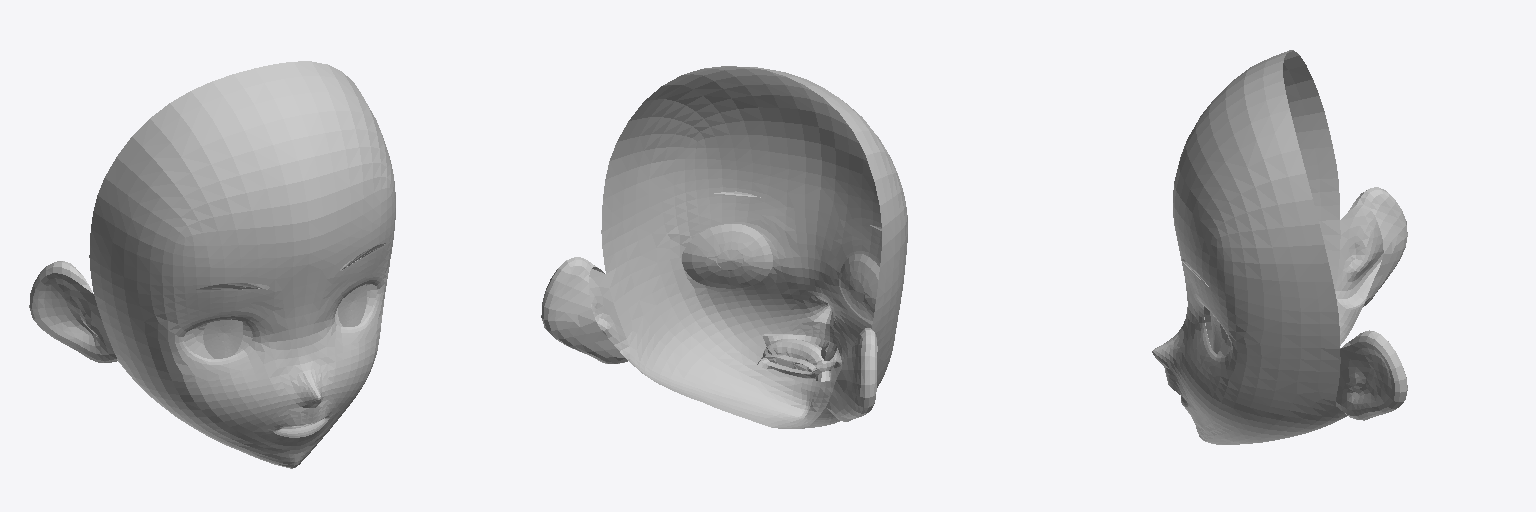
Rendered from mouthShrugUpper.obj.
3 views of the same model, side by side, from view 1: azimuth 30°, elevation 25°; view 2: azimuth 150°, elevation 25°; view 3: azimuth 270°, elevation 25° (orthographic).
Visible parts, largest first — view 1: Face; view 2: Face; view 3: Face.
Boxes of the visible parts, x1=… form: Face: x1=29, y1=61, x2=395, y2=468; Face: x1=541, y1=66, x2=907, y2=428; Face: x1=1152, y1=50, x2=1407, y2=444.
Size of the model in its own units: 0.2176 by 0.2333 by 0.1449.